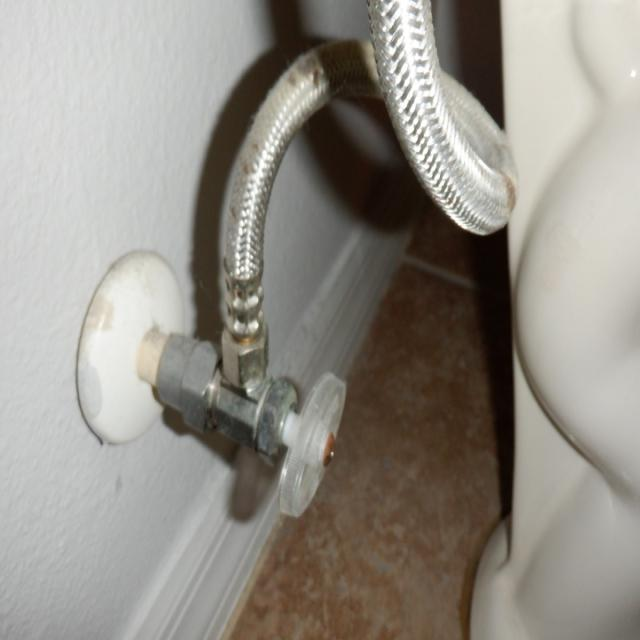good_valve: (282, 364, 349, 527)
